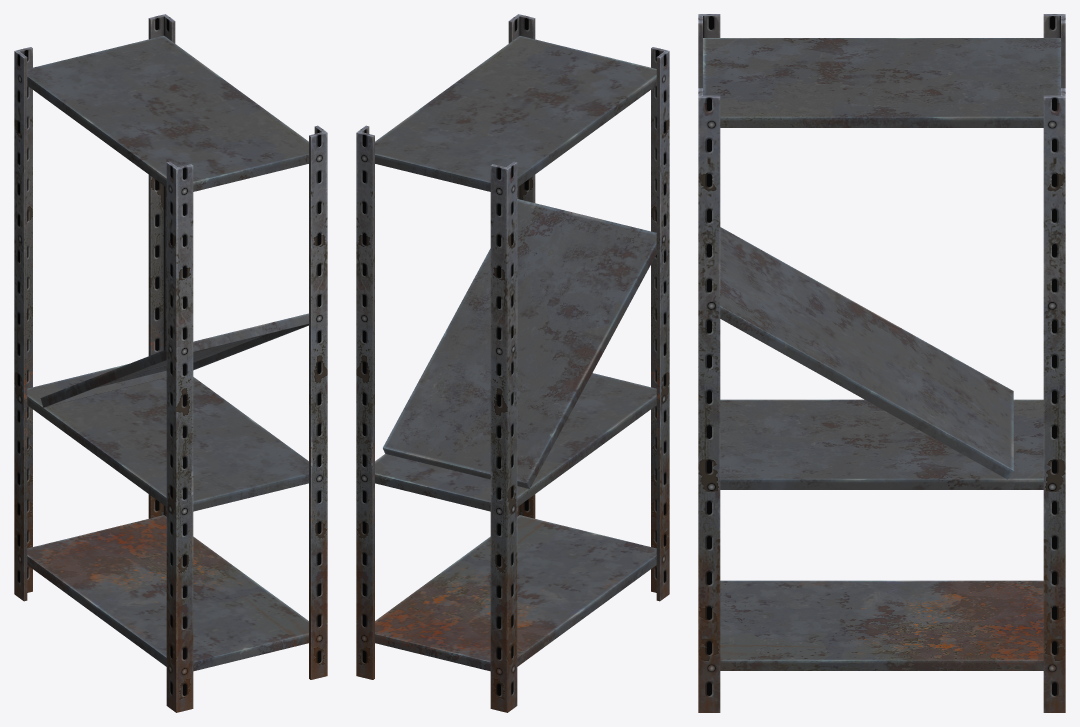
File: metalShelf02_A2.fbx
The picture shows the model from 3 angles, left to right: view 1: azimuth 30°, elevation 25°; view 2: azimuth 150°, elevation 25°; view 3: azimuth 270°, elevation 25°; orthographic projection. The views are drawn at different scales.
Parts seen in each view (by area): view 1: metalShelf02_A2; view 2: metalShelf02_A2; view 3: metalShelf02_A2.
Boxes of the visible parts, <box> form: metalShelf02_A2: <box>14,14,327,712</box>; metalShelf02_A2: <box>356,14,669,712</box>; metalShelf02_A2: <box>698,14,1065,712</box>.
Bounding box in the file's own units: 52.5 × 180 × 97.4.
